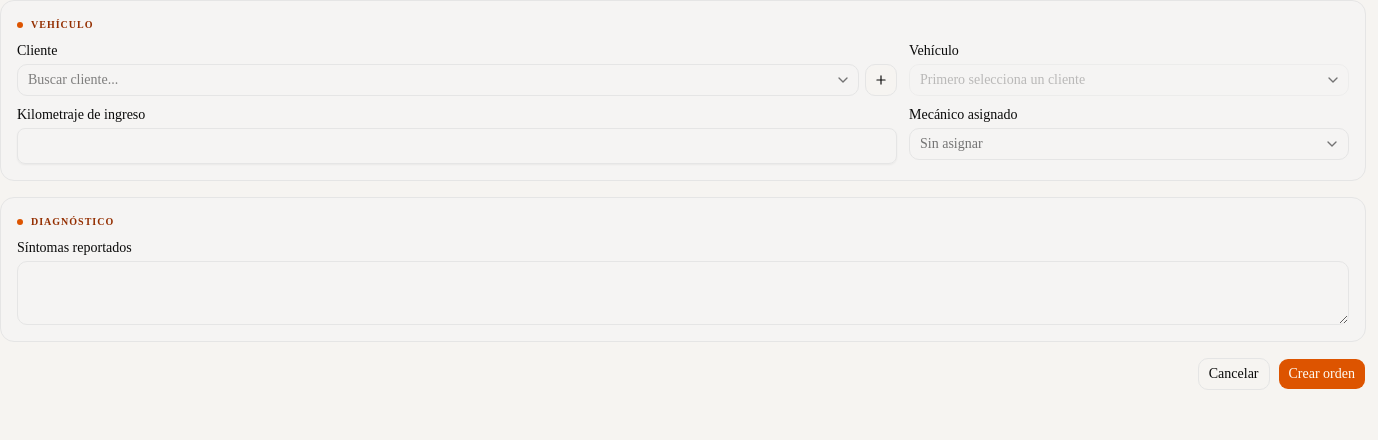
Test: NuevaOrdenDesdeCeroForm › al crear la orden lleva a su ficha, donde siguen recepción, ítems, DVI y el resto
Click the dropdown labelled "Cliente".
click(438, 80)  # box [17, 64, 859, 96]
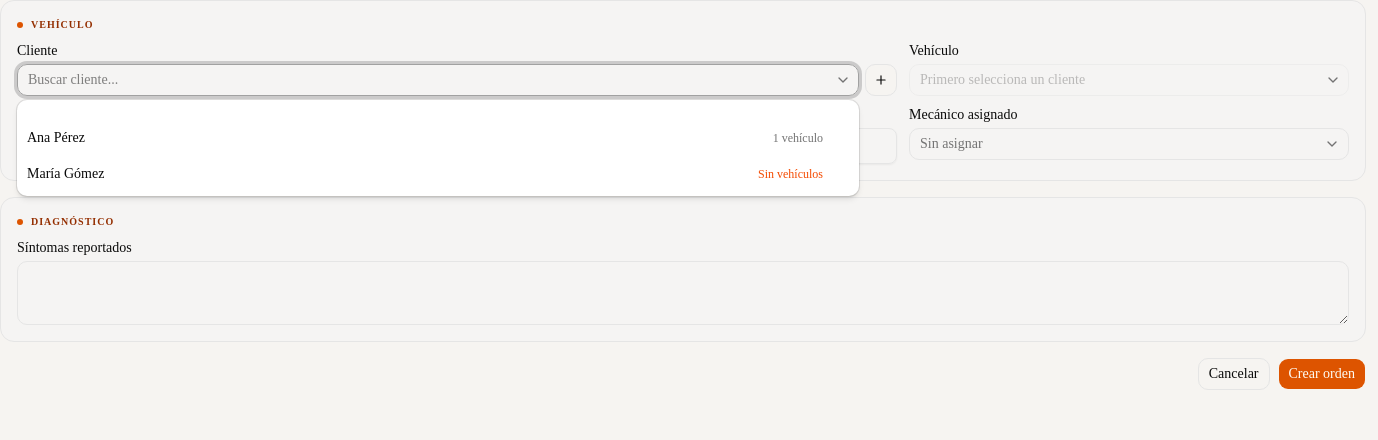
Click the option "Ana Pérez 1 vehículo".
click(56, 138)  # box [27, 130, 823, 145]
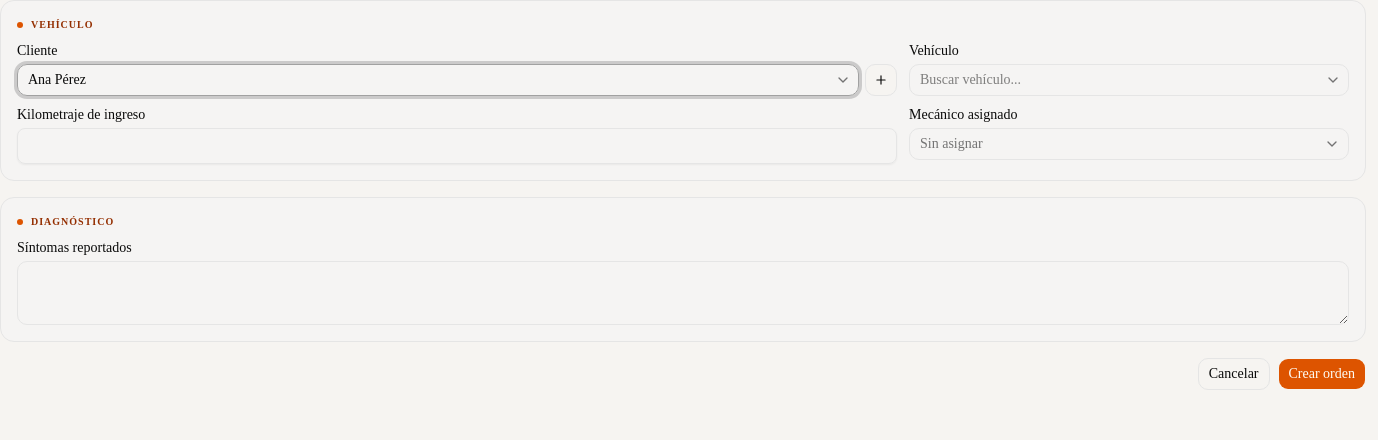
Click the dropdown labelled "Vehículo".
click(1129, 80)  # box [909, 64, 1349, 96]
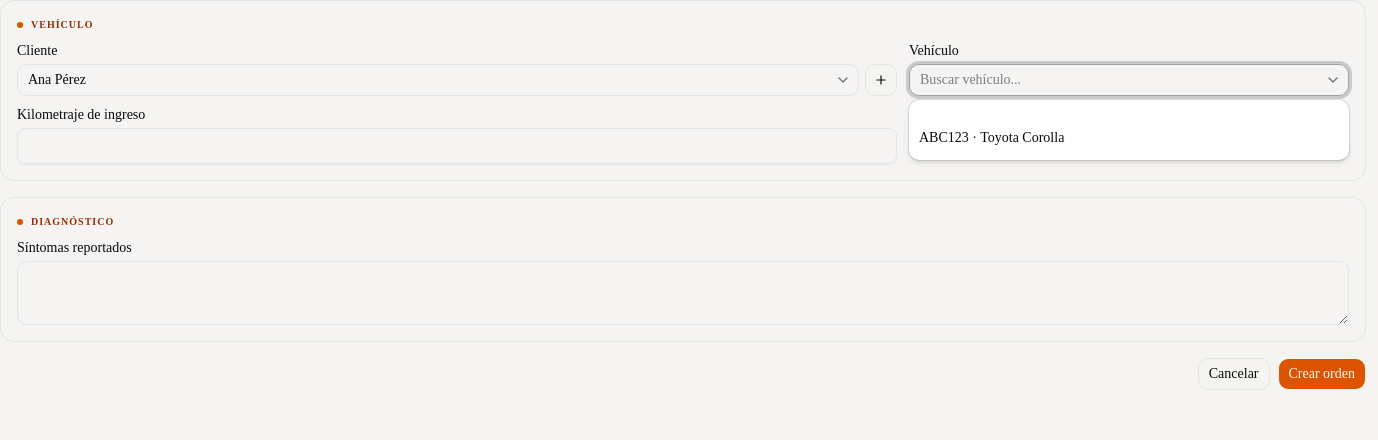
Click the option "ABC123 · Toyota Corolla".
click(992, 138)  # box [919, 130, 1064, 145]
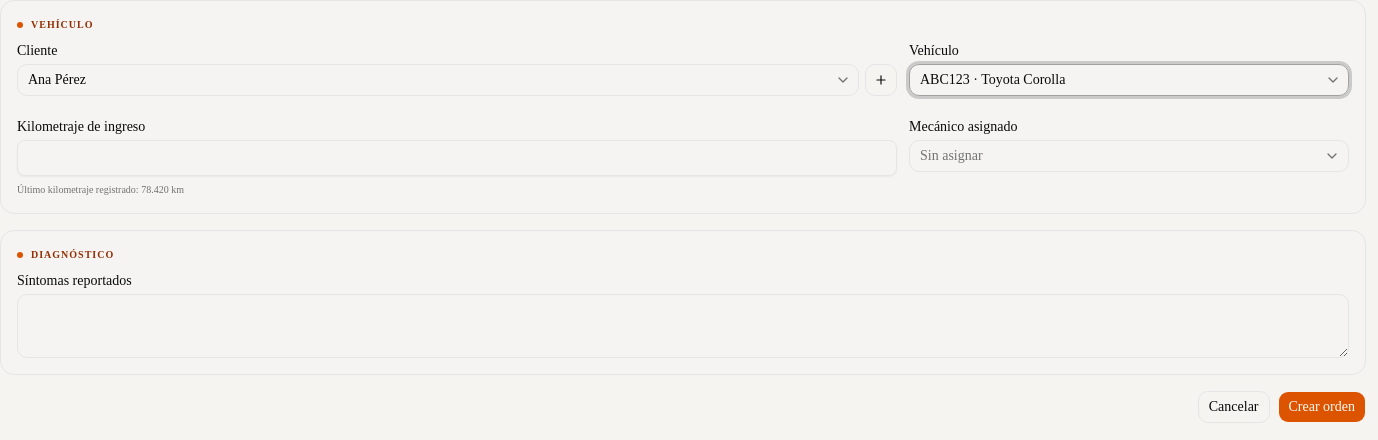
Click the button "Crear orden".
click(1322, 407)  # box [1278, 391, 1366, 423]
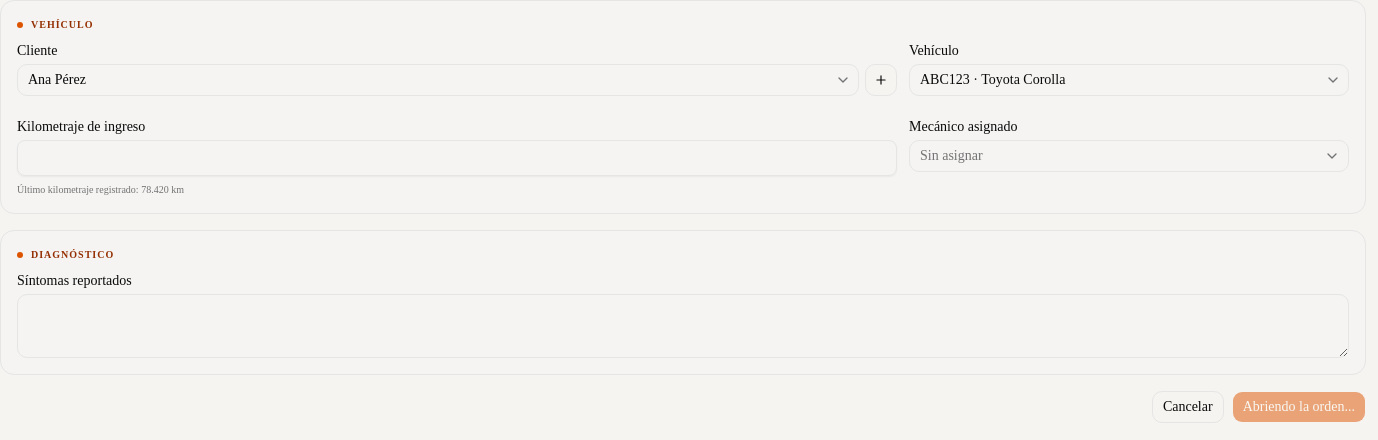
Check: the button "Abriendo la orden..." is disabled, box [1232, 391, 1366, 423]
